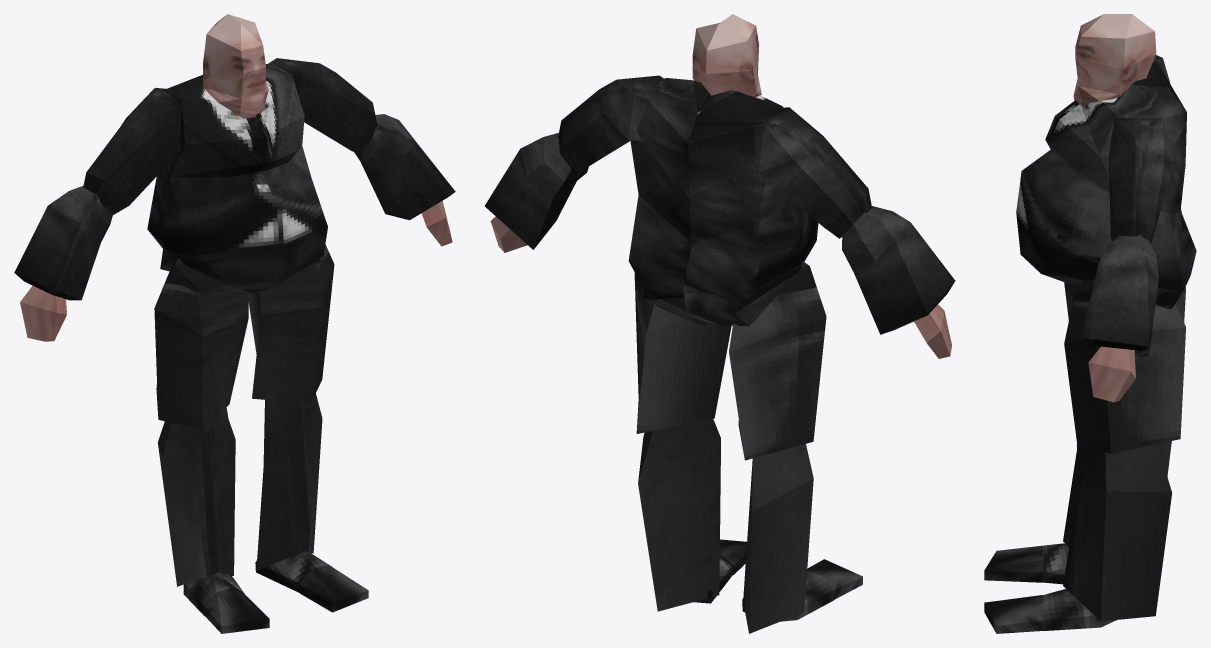
The model's file is boss_model.fbx.
3 views of the same model, side by side, from view 1: azimuth 30°, elevation 25°; view 2: azimuth 150°, elevation 25°; view 3: azimuth 270°, elevation 25° (orthographic). The views are drawn at different scales.
Visible parts, largest first — view 1: boss_Torso, boss_Forearm_R (×2), boss_Calf_R1, boss_Thigh_L1, boss_Upperarm_R (×2), boss_Calf_L, boss_Thigh_L, boss_Head, boss_Hand_R (×2), boss_Toe_L, boss_Toe_R; view 2: boss_Torso, boss_Forearm_R (×2), boss_Upperarm_R (×2), boss_Calf_L, boss_Thigh_L1, boss_Calf_R1, boss_Thigh_L, boss_Head, boss_Hand_R (×2), boss_Toe_R, boss_Toe_L; view 3: boss_Torso, boss_Calf_L, boss_Thigh_L, boss_Forearm_R, boss_Upperarm_R, boss_Head, boss_Hand_R, boss_Toe_L, boss_Calf_R1, boss_Toe_R, boss_Thigh_L1.
Part boxes in pixels (x1=…): boss_Torso: x1=147, y1=63, x2=327, y2=293; boss_Forearm_R (×2): x1=14, y1=114, x2=455, y2=300; boss_Calf_R1: x1=157, y1=402, x2=245, y2=616; boss_Thigh_L1: x1=154, y1=258, x2=248, y2=429; boss_Upperarm_R (×2): x1=83, y1=58, x2=377, y2=214; boss_Calf_L: x1=255, y1=390, x2=331, y2=592; boss_Thigh_L: x1=248, y1=244, x2=334, y2=403; boss_Head: x1=203, y1=14, x2=268, y2=118; boss_Hand_R (×2): x1=20, y1=201, x2=452, y2=341; boss_Toe_L: x1=299, y1=565, x2=368, y2=612; boss_Toe_R: x1=205, y1=588, x2=269, y2=633; boss_Torso: x1=628, y1=78, x2=818, y2=326; boss_Forearm_R (×2): x1=485, y1=133, x2=955, y2=334; boss_Upperarm_R (×2): x1=558, y1=75, x2=871, y2=238; boss_Calf_L: x1=638, y1=419, x2=732, y2=611; boss_Thigh_L1: x1=729, y1=261, x2=826, y2=460; boss_Calf_R1: x1=742, y1=444, x2=833, y2=633; boss_Thigh_L: x1=634, y1=272, x2=731, y2=433; boss_Head: x1=692, y1=14, x2=761, y2=97; boss_Hand_R (×2): x1=490, y1=216, x2=951, y2=358; boss_Toe_R: x1=807, y1=559, x2=862, y2=599; boss_Toe_L: x1=720, y1=539, x2=746, y2=575; boss_Torso: x1=1016, y1=62, x2=1196, y2=309; boss_Calf_L: x1=1042, y1=444, x2=1171, y2=630; boss_Thigh_L: x1=1064, y1=278, x2=1185, y2=453; boss_Forearm_R: x1=1081, y1=235, x2=1158, y2=357; boss_Upperarm_R: x1=1108, y1=117, x2=1174, y2=243; boss_Head: x1=1073, y1=14, x2=1156, y2=105; boss_Hand_R: x1=1088, y1=346, x2=1135, y2=402; boss_Toe_L: x1=984, y1=595, x2=1042, y2=633; boss_Calf_R1: x1=1042, y1=441, x2=1171, y2=584; boss_Toe_R: x1=984, y1=545, x2=1042, y2=582; boss_Thigh_L1: x1=1064, y1=282, x2=1185, y2=322.
Bounding box in the file's own units: 9.33 × 11.69 × 3.87.
